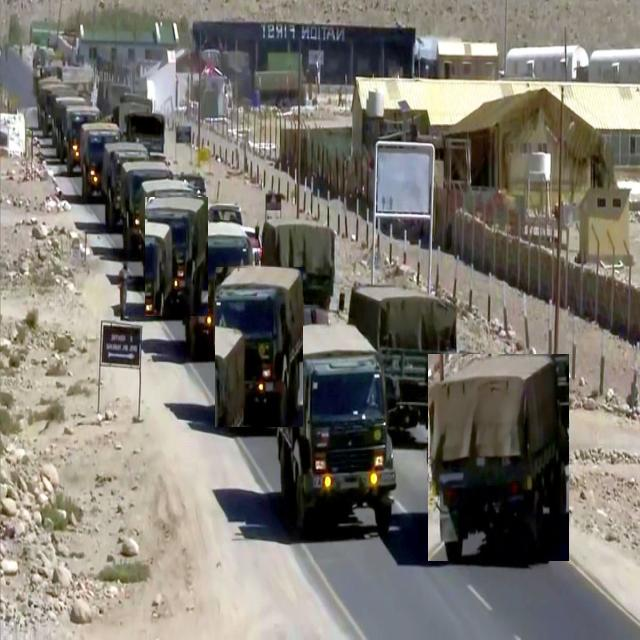truck: (428, 354, 569, 561), (272, 326, 396, 533), (349, 285, 456, 428), (215, 268, 302, 427), (180, 223, 252, 359), (145, 197, 208, 316)
